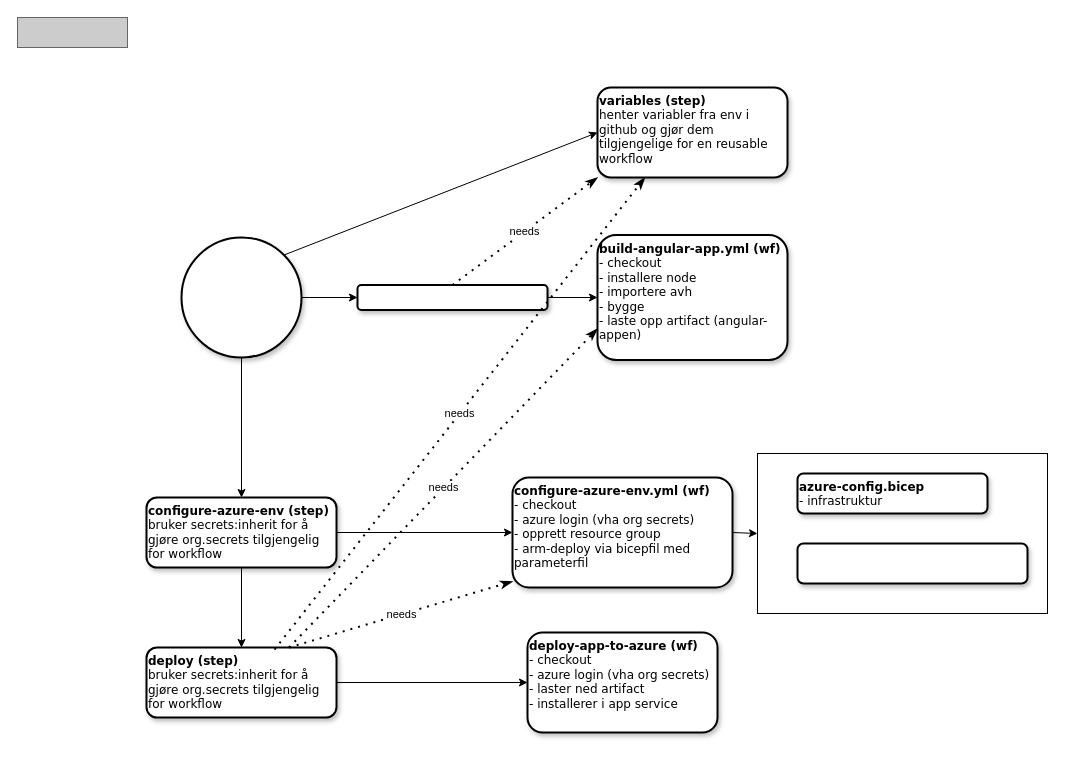
Some shapes in this 1065 by 758 pixel diagram are drawn without their labels. Each missing label, with the centre of its shape:
azure-config.DEV|QA|PROD .json - parameter for infrastruktur: (x=913, y=564)
build-angular-app (step): (x=453, y=299)
hviktor-workflow.yml: (x=242, y=298)
wf = workflow: (x=72, y=32)
